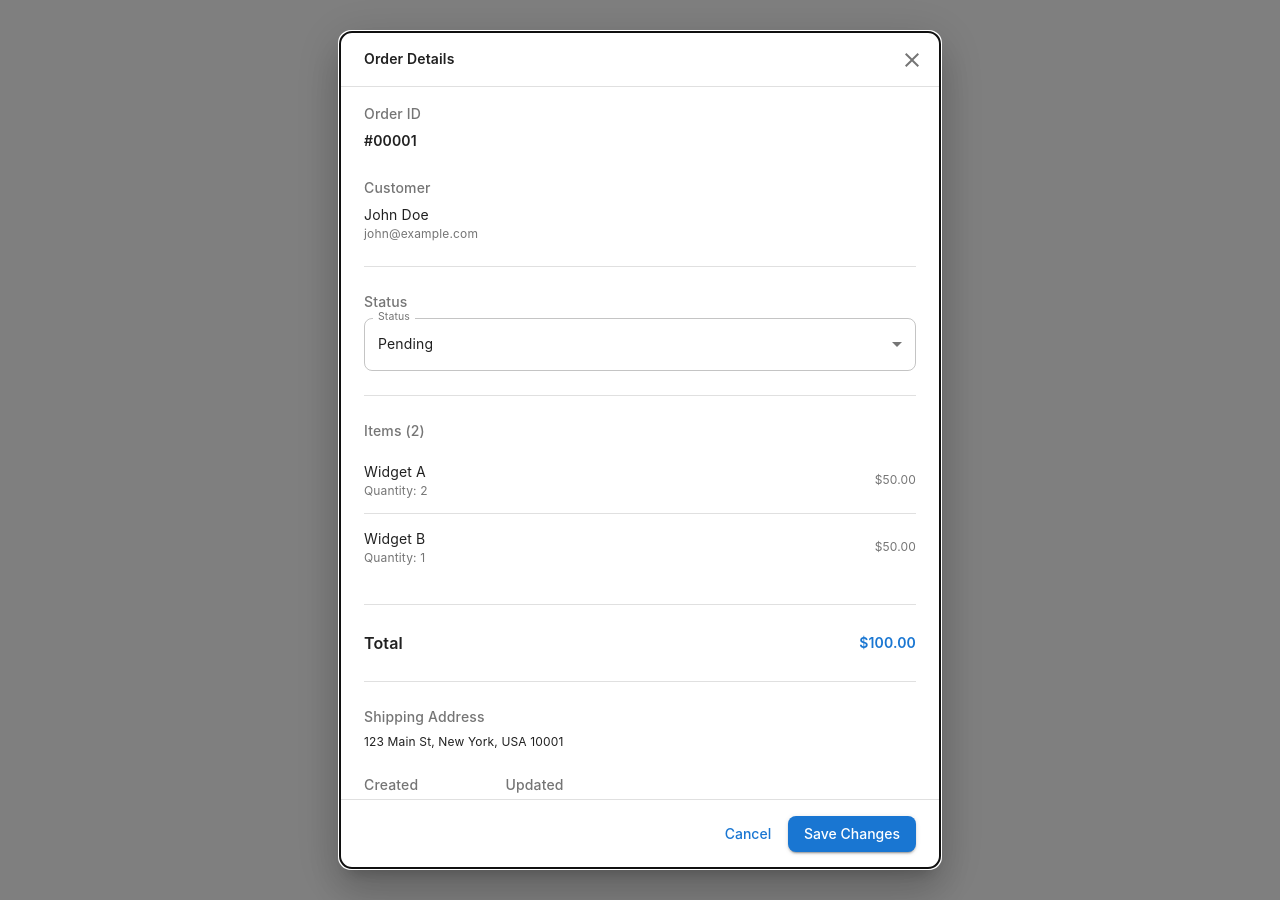
OrderDetailsModal › status editing › allows changing status
Click the dropdown named "status": (406, 344) [378,335,433,352]
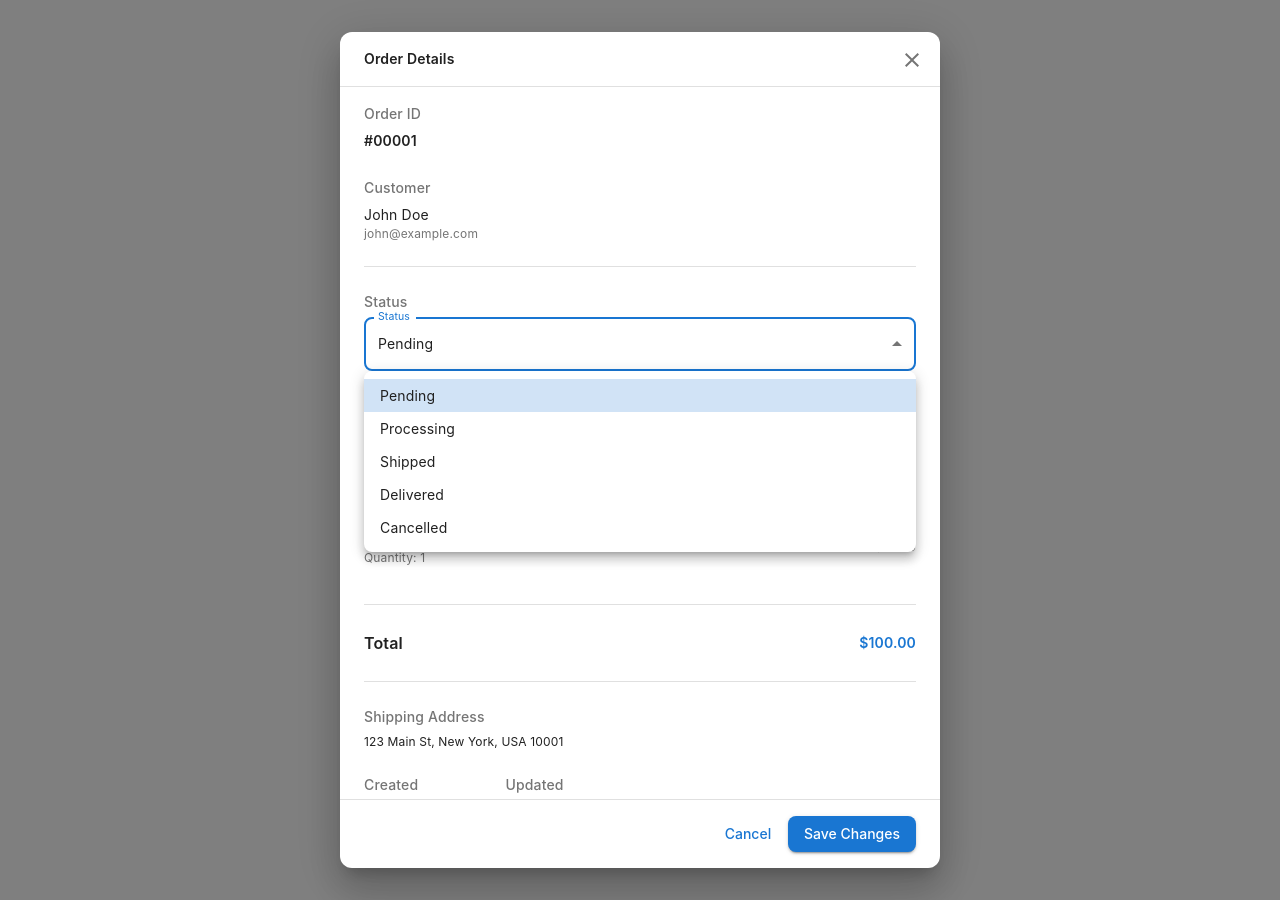
Click the option "Shipped": (408, 462) [380,453,436,470]
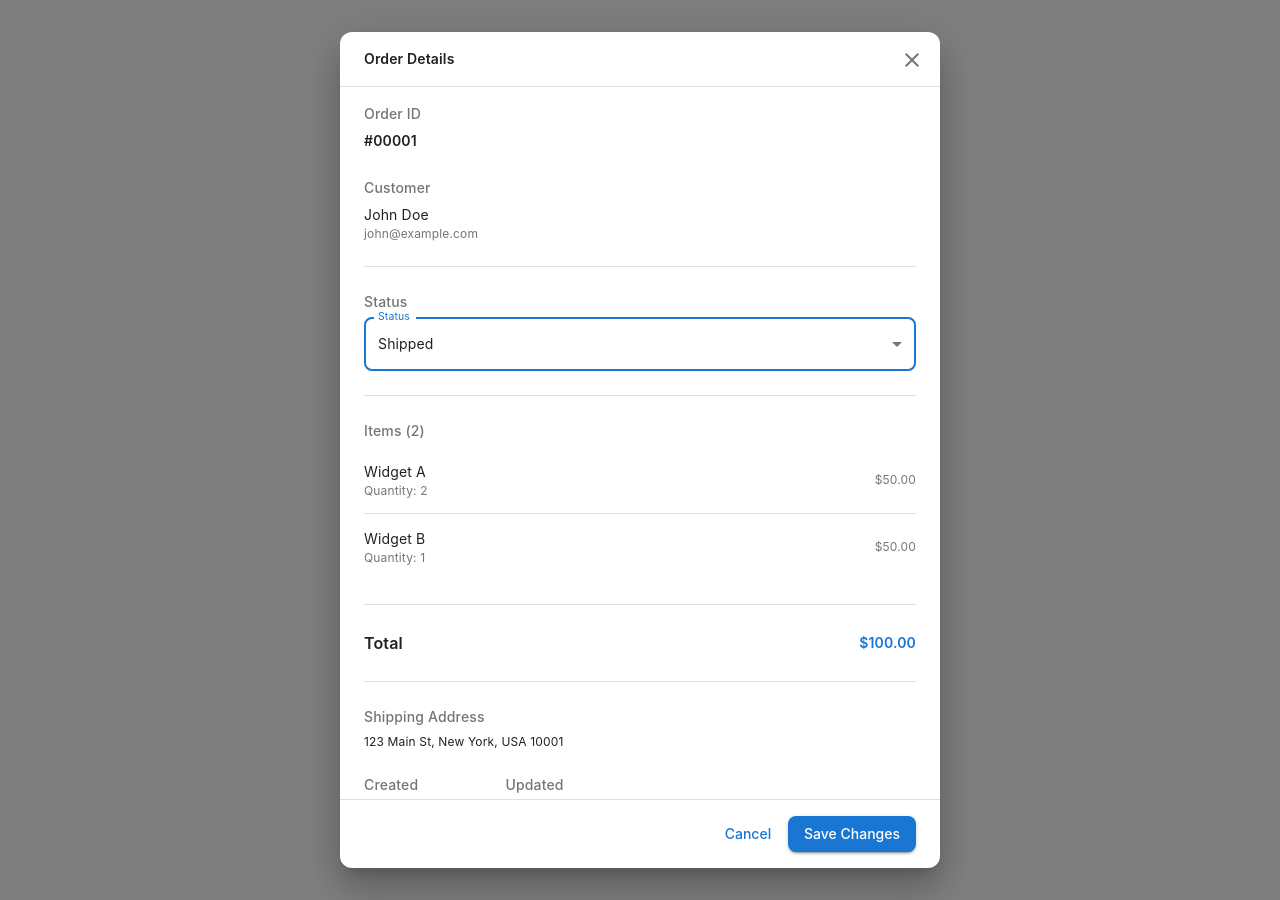
Expected: the dropdown named "status" reads "Shipped", [378,335,434,352]
